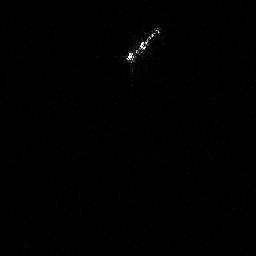ship: (123, 24, 165, 66)
